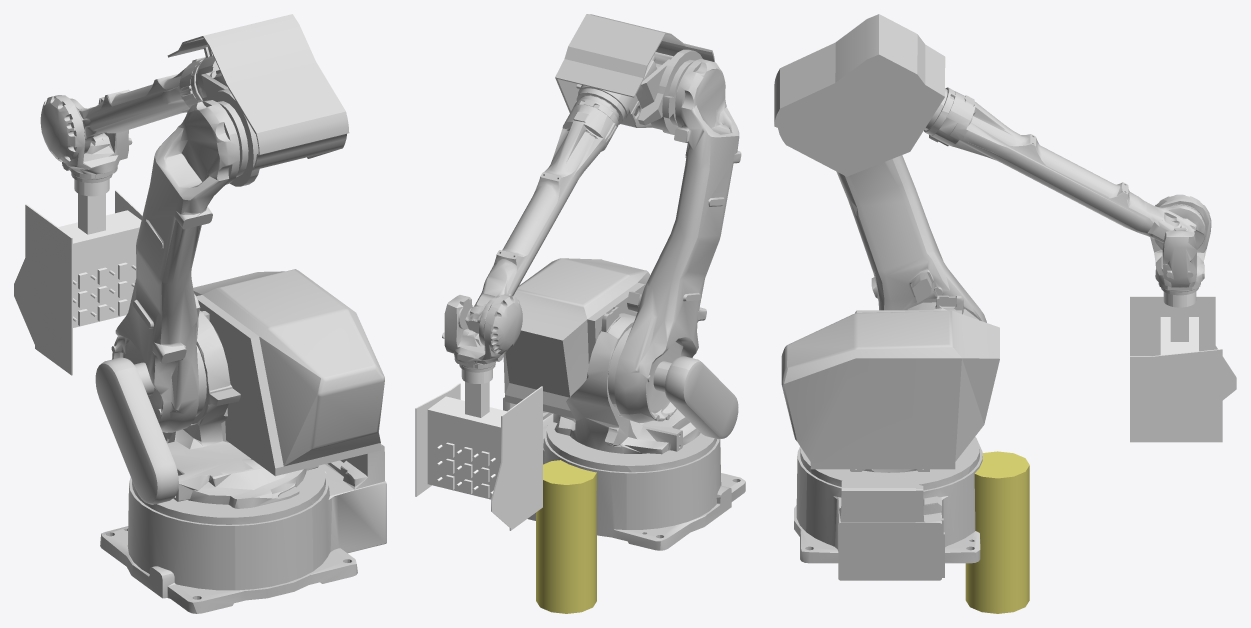
3 renders of one model, left to right at view 1: azimuth 30°, elevation 25°; view 2: azimuth 150°, elevation 25°; view 3: azimuth 270°, elevation 25°, orthographic. The views are drawn at different scales.
Visible parts, largest first — view 1: N_1344, N_1572, N_1727, N_2519, N_2291, N_2399, N_2007; view 2: N_1344, N_1727, N_2291, N_1572, N_2519, N_2399, visualJoint, N_2007; view 3: N_1344, N_2519, N_1572, N_2291, N_1727, N_2399, visualJoint, N_2007.
Part boxes in pixels (left/top/right/bottom): N_1344: left=95, top=269, right=384, bottom=508; N_1572: left=100, top=444, right=386, bottom=613; N_1727: left=111, top=100, right=239, bottom=432; N_2519: left=167, top=14, right=349, bottom=186; N_2291: left=14, top=179, right=142, bottom=375; N_2399: left=70, top=57, right=205, bottom=153; N_2007: left=40, top=95, right=132, bottom=183; N_1344: left=503, top=258, right=738, bottom=454; N_1727: left=608, top=58, right=741, bottom=423; N_2291: left=415, top=369, right=542, bottom=530; N_1572: left=503, top=397, right=745, bottom=550; N_2519: left=555, top=14, right=714, bottom=134; N_2399: left=465, top=99, right=618, bottom=345; visualJoint: left=536, top=460, right=596, bottom=613; N_2007: left=442, top=294, right=522, bottom=372; N_1344: left=781, top=295, right=999, bottom=472; N_2519: left=774, top=14, right=947, bottom=176; N_1572: left=794, top=437, right=982, bottom=580; N_2291: left=1130, top=291, right=1236, bottom=442; N_1727: left=836, top=155, right=986, bottom=322; N_2399: left=924, top=87, right=1205, bottom=250; visualJoint: left=965, top=451, right=1029, bottom=613; N_2007: left=1150, top=194, right=1211, bottom=295.
Bounding box in the file's own units: 1.14 × 2.92 × 2.17.
